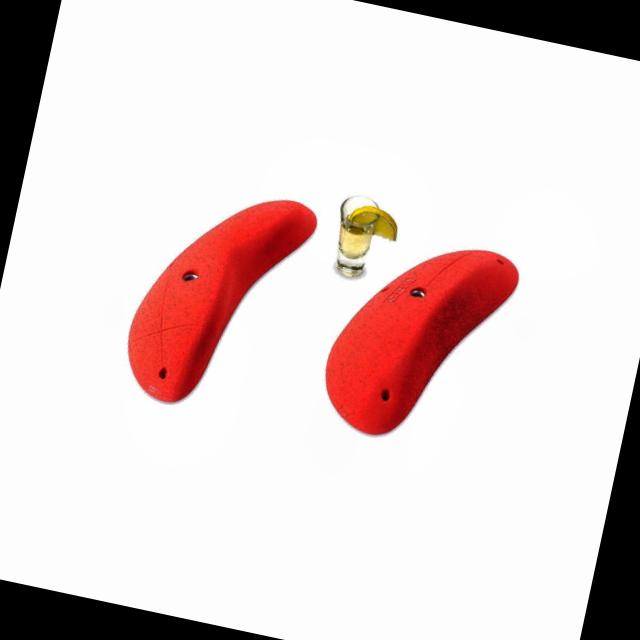Hold: (116, 172, 322, 424), (316, 222, 532, 454)
